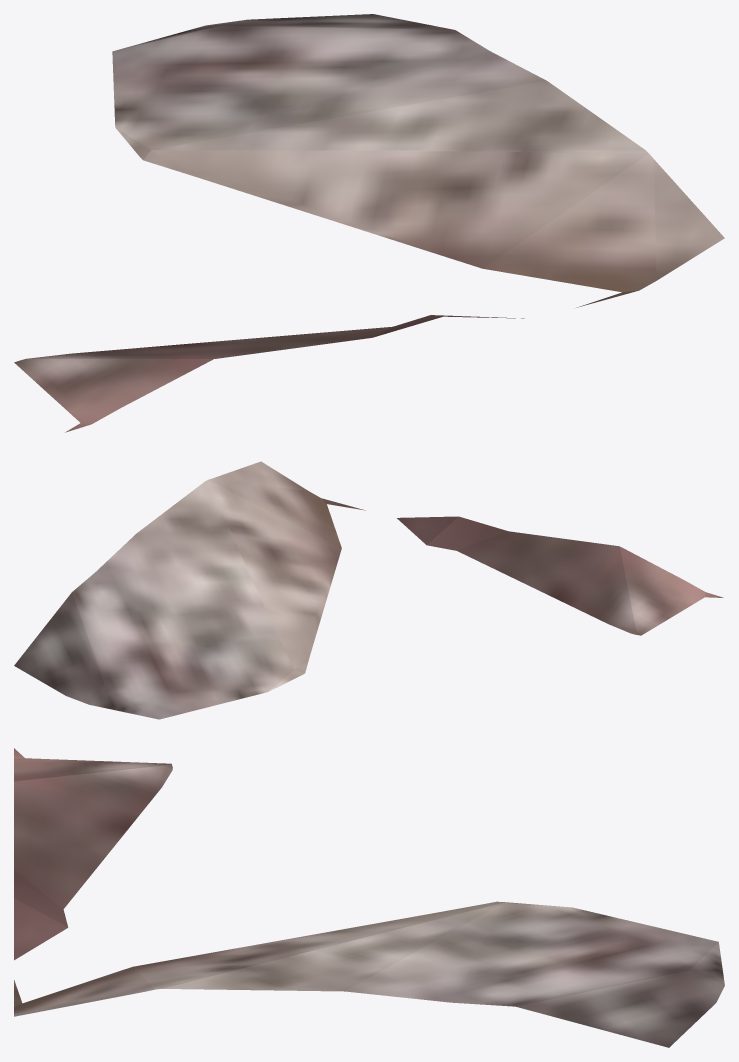
3 renders of one model, top to bottom at view 1: azimuth 30°, elevation 25°; view 2: azimuth 150°, elevation 25°; view 3: azimuth 270°, elevation 25°, orthographic. The views are drawn at different scales.
Bounding box in the file's own units: 0.1968 × 0.0181 × 0.1971.
1 material, 1 textured.
